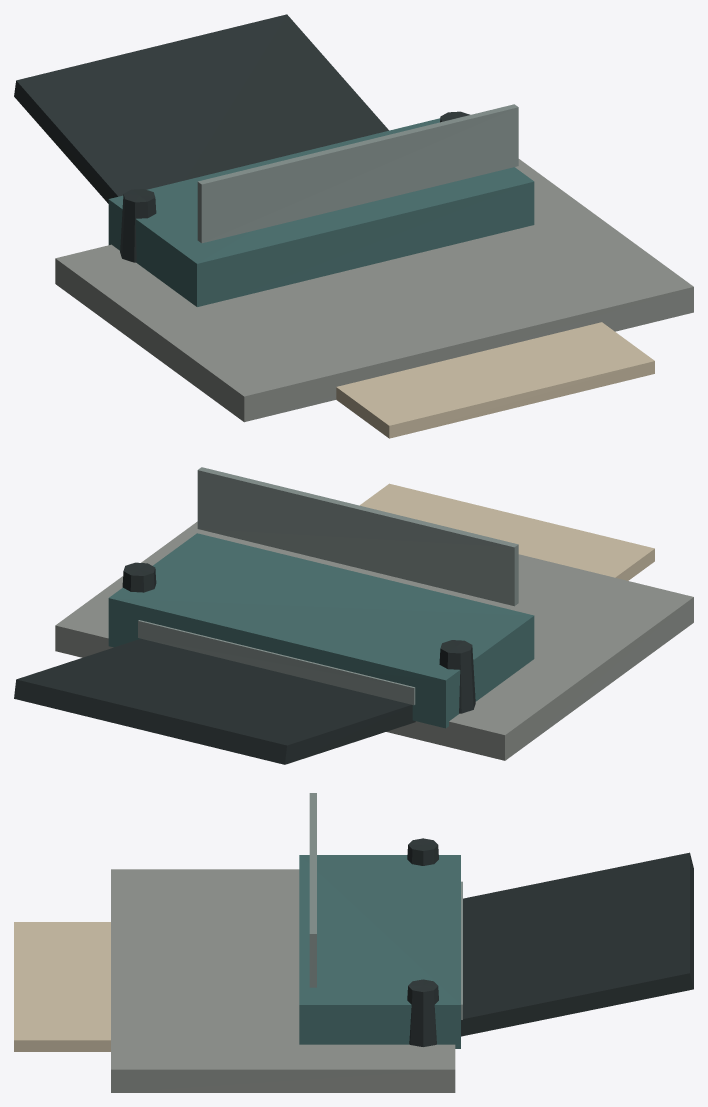
File: ferry-landing.source.glb
3 renders of one model, top to bottom at view 1: azimuth 30°, elevation 25°; view 2: azimuth 150°, elevation 25°; view 3: azimuth 270°, elevation 25°, orthographic. The views are drawn at different scales.
Parts seen in each view (by area): view 1: ferry-landing-reinforced-shore-slab-mesh, ferry-landing-static-vehicle-passenger-ramp-mesh, ferry-landing-raised-waiting-platform-mesh, ferry-landing-waiting-rail-mesh, ferry-landing-shore-approach-lane-mesh, ferry-landing-ferry-bollard--1.55-mesh; view 2: ferry-landing-raised-waiting-platform-mesh, ferry-landing-reinforced-shore-slab-mesh, ferry-landing-static-vehicle-passenger-ramp-mesh, ferry-landing-waiting-rail-mesh, ferry-landing-shore-approach-lane-mesh, ferry-landing-ramp-hinge-bar-mesh, ferry-landing-ferry-bollard--1.55-mesh, ferry-landing-ferry-bollard-1.55-mesh; view 3: ferry-landing-reinforced-shore-slab-mesh, ferry-landing-static-vehicle-passenger-ramp-mesh, ferry-landing-raised-waiting-platform-mesh, ferry-landing-shore-approach-lane-mesh, ferry-landing-ferry-bollard-1.55-mesh, ferry-landing-waiting-rail-mesh, ferry-landing-ferry-bollard--1.55-mesh.
Part boxes in pixels (x1=…): ferry-landing-reinforced-shore-slab-mesh: x1=55, y1=159, x2=693, y2=422; ferry-landing-static-vehicle-passenger-ramp-mesh: x1=14, y1=14, x2=388, y2=203; ferry-landing-raised-waiting-platform-mesh: x1=108, y1=118, x2=534, y2=306; ferry-landing-waiting-rail-mesh: x1=197, y1=104, x2=518, y2=243; ferry-landing-shore-approach-lane-mesh: x1=336, y1=322, x2=654, y2=438; ferry-landing-ferry-bollard--1.55-mesh: x1=120, y1=189, x2=156, y2=262; ferry-landing-raised-waiting-platform-mesh: x1=108, y1=533, x2=534, y2=728; ferry-landing-reinforced-shore-slab-mesh: x1=55, y1=521, x2=693, y2=760; ferry-landing-static-vehicle-passenger-ramp-mesh: x1=14, y1=638, x2=415, y2=764; ferry-landing-waiting-rail-mesh: x1=197, y1=467, x2=518, y2=606; ferry-landing-shore-approach-lane-mesh: x1=359, y1=483, x2=654, y2=580; ferry-landing-ramp-hinge-bar-mesh: x1=138, y1=620, x2=415, y2=705; ferry-landing-ferry-bollard--1.55-mesh: x1=439, y1=640, x2=475, y2=713; ferry-landing-ferry-bollard-1.55-mesh: x1=122, y1=562, x2=156, y2=592; ferry-landing-reinforced-shore-slab-mesh: x1=111, y1=869, x2=455, y2=1092; ferry-landing-static-vehicle-passenger-ramp-mesh: x1=461, y1=852, x2=693, y2=1036; ferry-landing-raised-waiting-platform-mesh: x1=299, y1=855, x2=460, y2=1048; ferry-landing-shore-approach-lane-mesh: x1=14, y1=922, x2=110, y2=1051; ferry-landing-ferry-bollard-1.55-mesh: x1=407, y1=979, x2=438, y2=1046; ferry-landing-waiting-rail-mesh: x1=309, y1=793, x2=316, y2=987; ferry-landing-ferry-bollard--1.55-mesh: x1=407, y1=838, x2=438, y2=865.
Size of the model in its own units: 4.4 by 1.33 by 6.32.
